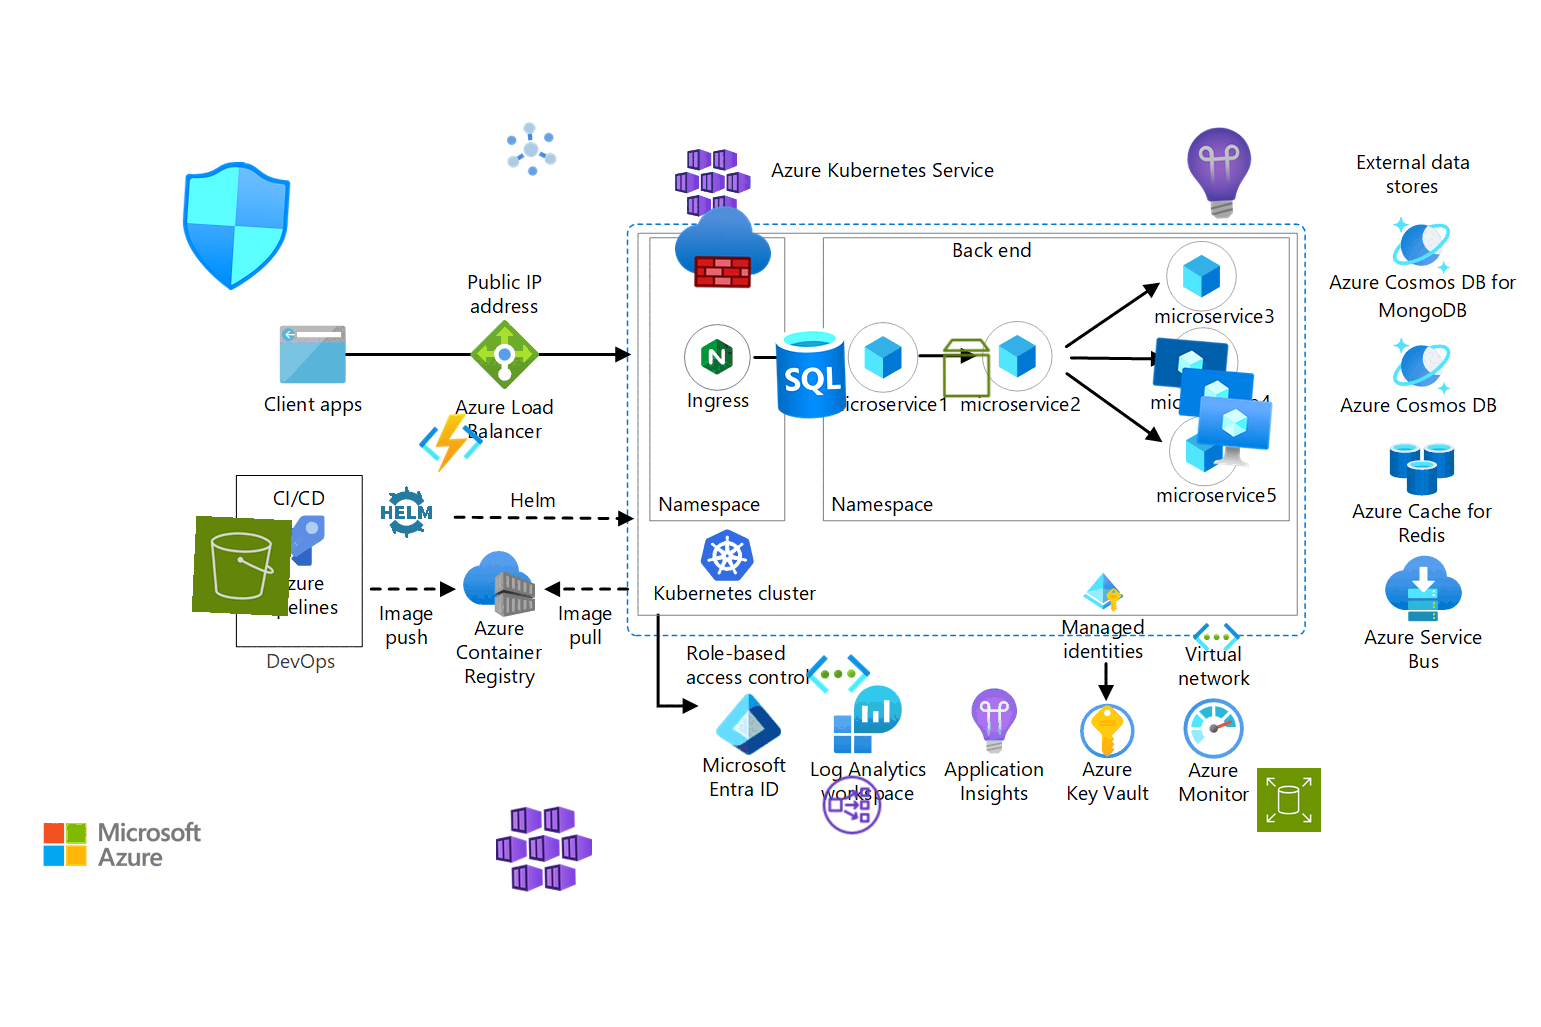aws_amazon_elastic_block_store: (1256, 767, 1322, 833)
aws_amazon_simple_storage_service: (191, 515, 293, 617)
aws_elastic_block_store_volume: (934, 335, 1000, 401)
aws_elastic_load_balancing_network_load_balancer: (819, 773, 884, 838)
azure_application_insights: (1169, 121, 1271, 224)
azure_firewalls: (674, 198, 772, 296)
azure_function_apps: (417, 409, 485, 477)
azure_kubernetes_services: (494, 798, 593, 897)
azure_network_security_groups: (166, 157, 304, 295)
azure_sql_database: (761, 323, 860, 423)
azure_virtual_networks: (805, 641, 871, 707)
azure_vm_scale_sets: (1140, 330, 1280, 470)
gcp_pubsub: (496, 113, 566, 185)
